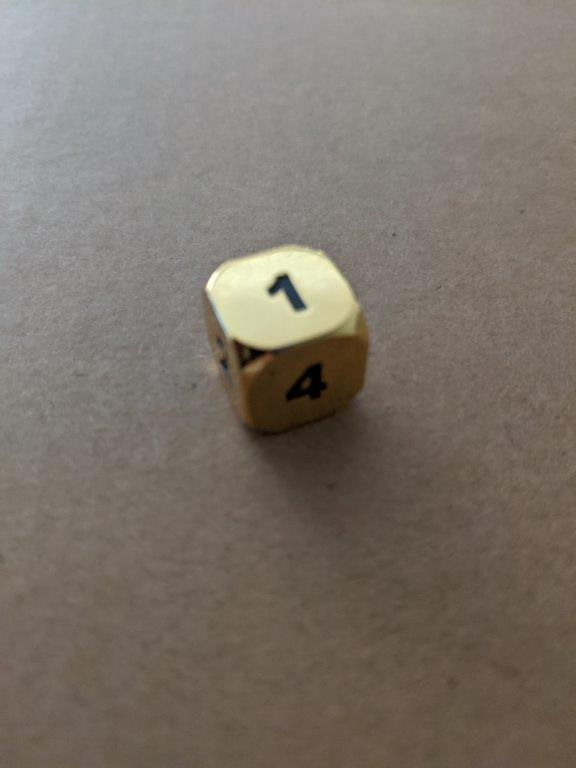d6-1: (204, 245, 372, 434)
